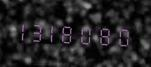eight: (65, 19, 80, 47), (97, 21, 112, 48)
one: (17, 16, 32, 44), (49, 18, 64, 46)
three: (33, 17, 48, 45)
zero: (81, 20, 96, 48), (113, 22, 128, 49)
